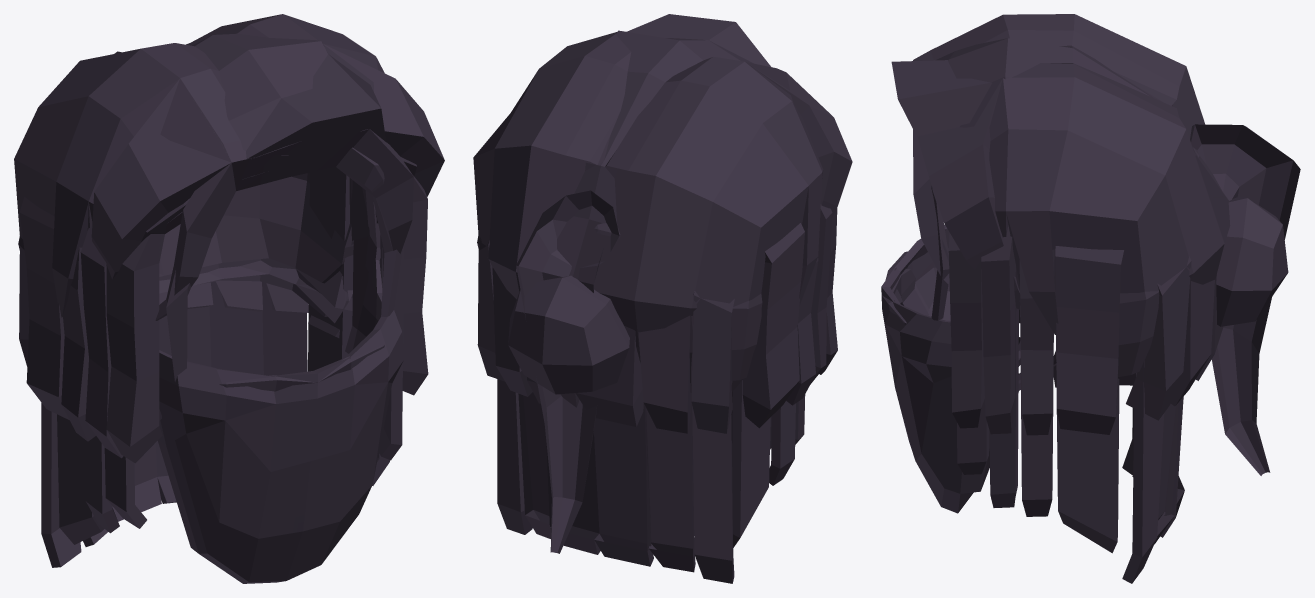
Rendered from hair.fbx.
The picture shows the model from 3 angles, left to right: view 1: azimuth 30°, elevation 25°; view 2: azimuth 150°, elevation 25°; view 3: azimuth 270°, elevation 25°; orthographic projection. The views are drawn at different scales.
Parts seen in each view (by area): view 1: AliZafar, femaleShort, BeardLarge, femaleLong, FemalePonyTail, FawadKhan, BeardShort, MaleImprovised, OGNawazSharif, Mustache; view 2: AliZafar, femaleLong, femaleShort, FemaleBun, FemalePonyTail, MaleImprovised, FawadKhan; view 3: AliZafar, femaleShort, femaleLong, FemalePonyTail, BeardLarge, FemaleBun, BeardShort, FawadKhan, MaleImprovised, CircleBeard, Mustache.
Boxes of the visible parts, x1,y1,x2,y2 form: AliZafar: (14, 14, 444, 320); femaleShort: (18, 175, 428, 463); BeardLarge: (157, 382, 392, 583); femaleLong: (41, 167, 403, 567); FemalePonyTail: (114, 51, 402, 316); FawadKhan: (159, 54, 386, 307); BeardShort: (159, 259, 404, 433); MaleImprovised: (192, 33, 350, 184); OGNawazSharif: (159, 186, 369, 323); Mustache: (218, 344, 384, 391); AliZafar: (473, 32, 852, 392); femaleLong: (497, 379, 805, 583); femaleShort: (477, 162, 837, 433); FemaleBun: (508, 275, 629, 394); FemalePonyTail: (516, 190, 619, 553); MaleImprovised: (604, 30, 753, 160); FawadKhan: (585, 14, 770, 177); AliZafar: (913, 14, 1230, 385); femaleShort: (948, 146, 1223, 435); femaleLong: (957, 306, 1184, 583); FemalePonyTail: (931, 124, 1300, 475); BeardLarge: (882, 313, 1020, 513); FemaleBun: (1015, 196, 1288, 326); BeardShort: (881, 224, 1020, 390); FawadKhan: (891, 60, 1172, 371); MaleImprovised: (935, 38, 1152, 97); CircleBeard: (892, 268, 931, 316); Mustache: (882, 251, 932, 324).
Size of the model in its own units: 108 by 162 by 126.
